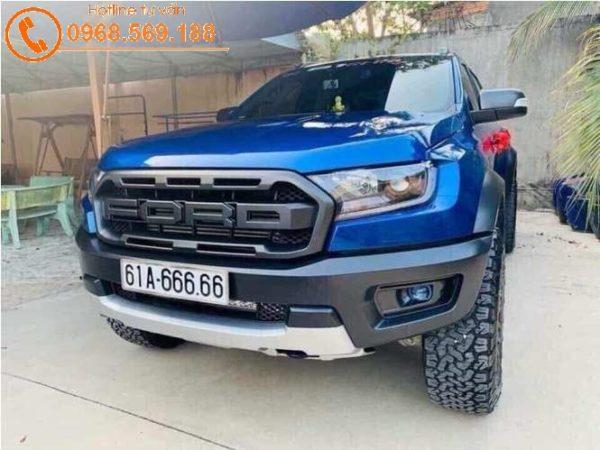numplate: (116, 254, 228, 305)
